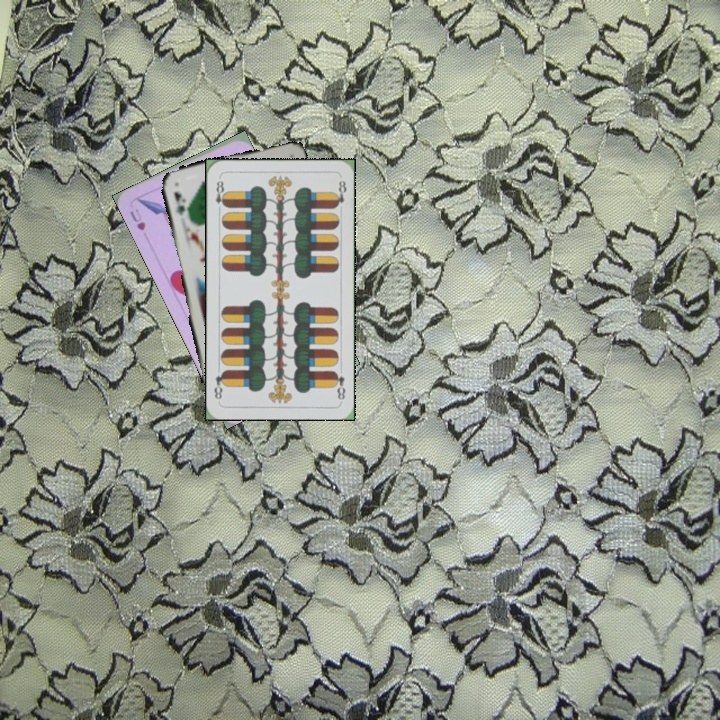E8: (212, 176, 229, 215), (330, 367, 348, 403)
GK: (170, 188, 188, 218)
HU: (126, 205, 148, 233)
